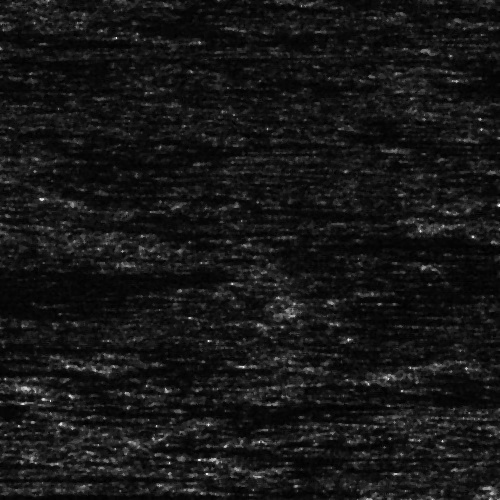object: (173, 453, 256, 460), (438, 207, 479, 212)
shadow: (0, 488, 291, 500), (215, 453, 484, 460), (0, 343, 171, 352), (0, 473, 120, 480), (458, 207, 500, 212), (0, 368, 29, 373)
